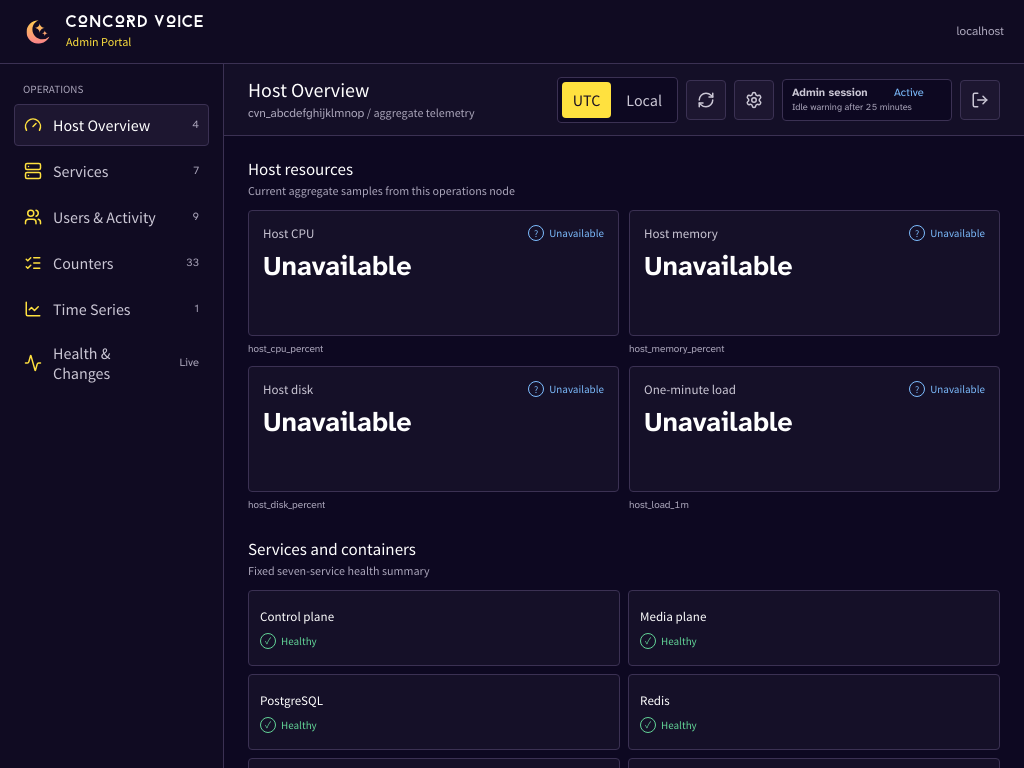
Test: App › returns to local login only after logout clears portal memory
Click the button named "Sign out" at (980, 100), box [960,80,1000,120]
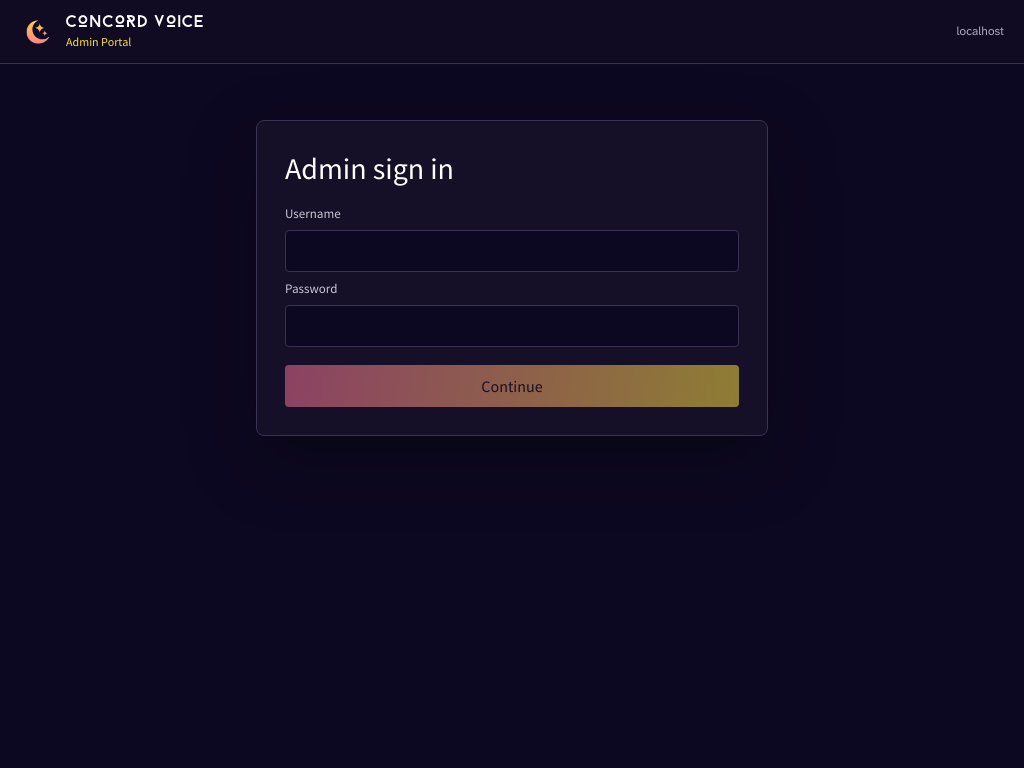
Result: the heading "Admin sign in" is shown at [285,149,454,187]
